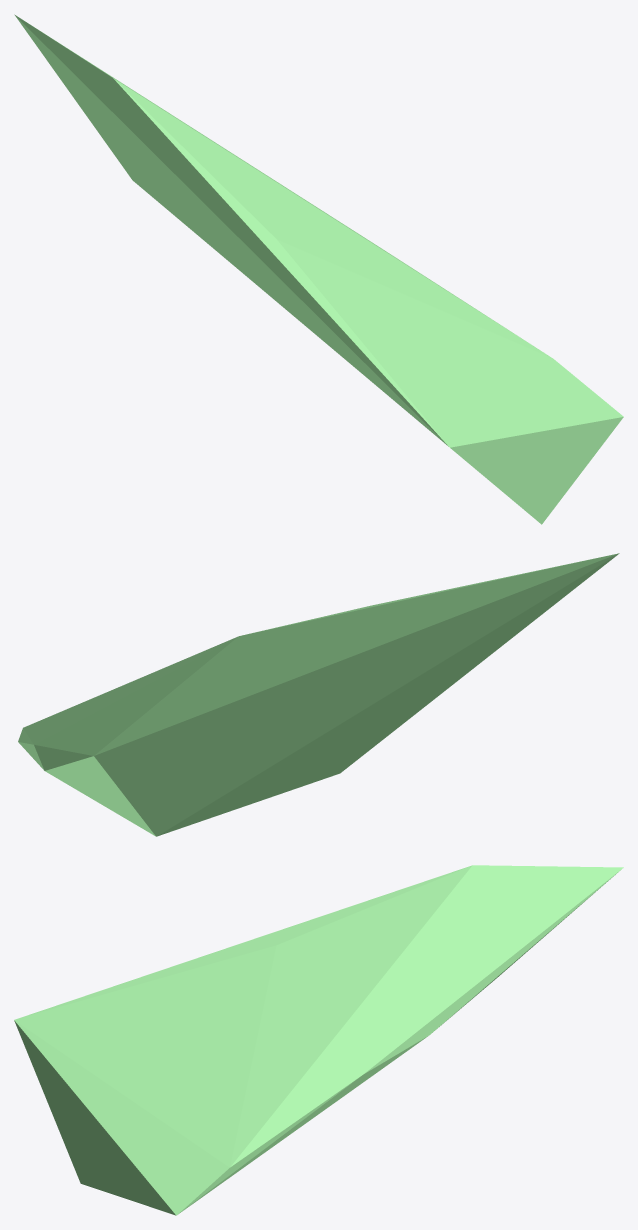
File: Panda_link5_respondable_coll_5.dae
3 renders of one model, top to bottom at view 1: azimuth 30°, elevation 25°; view 2: azimuth 150°, elevation 25°; view 3: azimuth 270°, elevation 25°, orthographic. The views are drawn at different scales.
Parts seen in each view (by area): view 1: Node_0x7f9e89c611b0; view 2: Node_0x7f9e89c611b0; view 3: Node_0x7f9e89c611b0.
Part boxes in pixels (x1,y1,x2,y2): Node_0x7f9e89c611b0: (14, 14, 623, 524); Node_0x7f9e89c611b0: (18, 553, 619, 836); Node_0x7f9e89c611b0: (14, 865, 623, 1215).
Size of the model in its own units: 0.0378 by 0.0341 by 0.0762.
